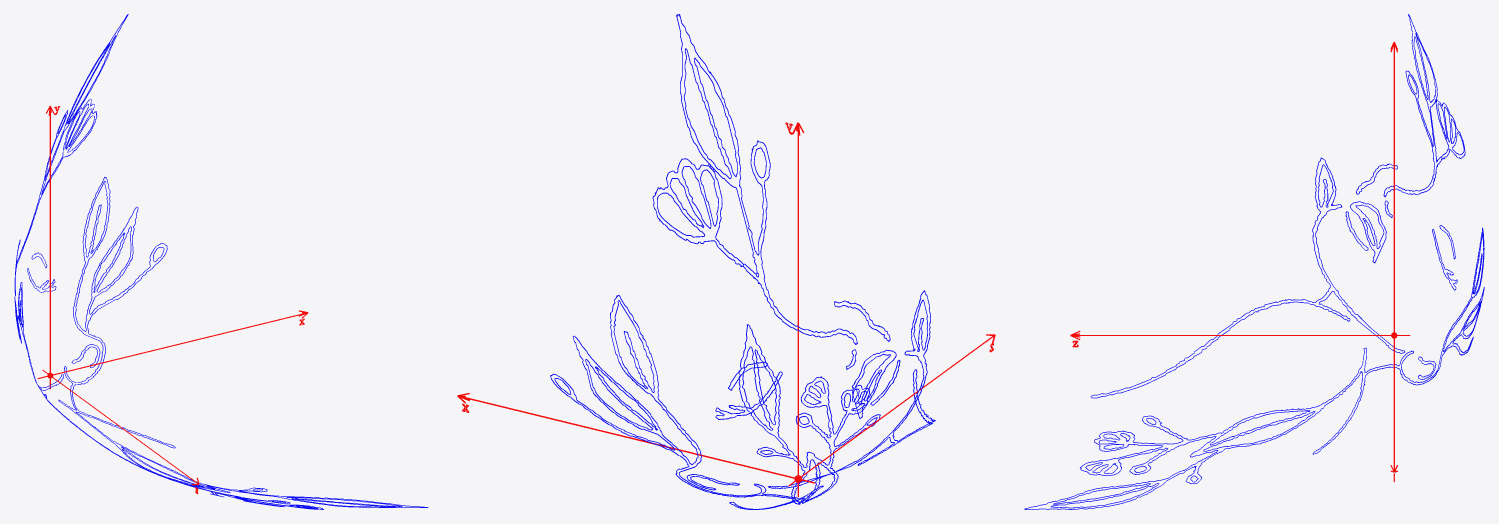
3 views of the same model, side by side, from view 1: azimuth 30°, elevation 25°; view 2: azimuth 150°, elevation 25°; view 3: azimuth 270°, elevation 25° (orthographic). The views are drawn at different scales.
Bounding box in the file's own units: 1.25 × 1.53 × 1.42.
